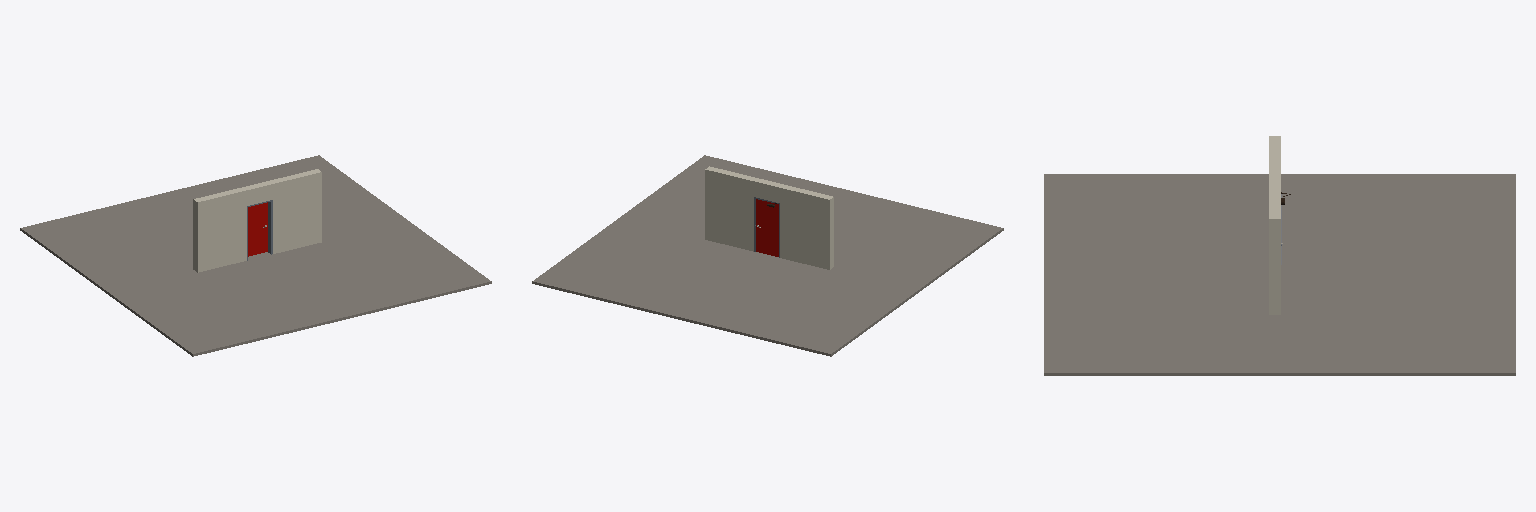
The robot description file, URDF, robot "db0625_swing_single_full":
<?xml version="1.0" ?>
<robot xmlns:doorbench="https://github.com/adamraudonis/DoorBench/schema/urdf-ext" name="db0625_swing_single_full">
  <link name="world_env">
    <visual name="floor_vis">
      <origin xyz="0 0 -0.05" rpy="0 0 0"/>
      <geometry>
        <box size="12 12 0.1"/>
      </geometry>
      <material name="mat_floor"/>
    </visual>
    <collision name="floor_col">
      <origin xyz="0 0 -0.05" rpy="0 0 0"/>
      <geometry>
        <box size="12 12 0.1"/>
      </geometry>
    </collision>
    <visual name="wall_left_vis">
      <origin xyz="-1.50525 -0.121 1.35" rpy="0 0 0"/>
      <geometry>
        <box size="1.9895 0.3 2.7"/>
      </geometry>
      <material name="mat_wall"/>
    </visual>
    <collision name="wall_left_col">
      <origin xyz="-1.50525 -0.121 1.35" rpy="0 0 0"/>
      <geometry>
        <box size="1.9895 0.3 2.7"/>
      </geometry>
    </collision>
    <visual name="wall_right_vis">
      <origin xyz="1.52025 -0.121 1.35" rpy="0 0 0"/>
      <geometry>
        <box size="1.9595 0.3 2.7"/>
      </geometry>
      <material name="mat_wall"/>
    </visual>
    <collision name="wall_right_col">
      <origin xyz="1.52025 -0.121 1.35" rpy="0 0 0"/>
      <geometry>
        <box size="1.9595 0.3 2.7"/>
      </geometry>
    </collision>
    <visual name="wall_header_vis">
      <origin xyz="0.015 -0.121 2.4125" rpy="0 0 0"/>
      <geometry>
        <box size="1.051 0.3 0.575"/>
      </geometry>
      <material name="mat_wall"/>
    </visual>
    <collision name="wall_header_col">
      <origin xyz="0.015 -0.121 2.4125" rpy="0 0 0"/>
      <geometry>
        <box size="1.051 0.3 0.575"/>
      </geometry>
    </collision>
    <visual name="jamb_hinge_vis">
      <origin xyz="-0.4855 -0.121 1.0225" rpy="0 0 0"/>
      <geometry>
        <box size="0.05 0.3 2.045"/>
      </geometry>
      <material name="mat_frame"/>
    </visual>
    <collision name="jamb_hinge_col">
      <origin xyz="-0.4855 -0.121 1.0225" rpy="0 0 0"/>
      <geometry>
        <box size="0.05 0.3 2.045"/>
      </geometry>
    </collision>
    <visual name="strike_1016_wall_n_vis">
      <origin xyz="0.5005 -0.14025 1.016" rpy="0 0 0"/>
      <geometry>
        <box size="0.08 0.2615 0.0366"/>
      </geometry>
      <material name="mat_frame"/>
    </visual>
    <collision name="strike_1016_wall_n_col">
      <origin xyz="0.5005 -0.14025 1.016" rpy="0 0 0"/>
      <geometry>
        <box size="0.08 0.2615 0.0366"/>
      </geometry>
    </collision>
    <visual name="strike_1016_wall_p_vis">
      <origin xyz="0.5005 0.0175 1.016" rpy="0 0 0"/>
      <geometry>
        <box size="0.08 0.016 0.0366"/>
      </geometry>
      <material name="mat_frame"/>
    </visual>
    <collision name="strike_1016_wall_p_col">
      <origin xyz="0.5005 0.0175 1.016" rpy="0 0 0"/>
      <geometry>
        <box size="0.08 0.016 0.0366"/>
      </geometry>
    </collision>
    <visual name="strike_1016_ramp_vis">
      <origin xyz="0.503782 0.018312 1.016" rpy="0 0 -0.588003"/>
      <geometry>
        <box size="0.08 0.036056 0.0366"/>
      </geometry>
      <material name="mat_frame"/>
    </visual>
    <collision name="strike_1016_ramp_col">
      <origin xyz="0.503782 0.018312 1.016" rpy="0 0 -0.588003"/>
      <geometry>
        <box size="0.08 0.036056 0.0366"/>
      </geometry>
    </collision>
    <visual name="strike_1016_back_vis">
      <origin xyz="0.512 0 1.016" rpy="0 0 0"/>
      <geometry>
        <box size="0.057 0.019 0.0366"/>
      </geometry>
      <material name="mat_frame"/>
    </visual>
    <collision name="strike_1016_back_col">
      <origin xyz="0.512 0 1.016" rpy="0 0 0"/>
      <geometry>
        <box size="0.057 0.019 0.0366"/>
      </geometry>
    </collision>
    <visual name="jamb_strike_0_vis">
      <origin xyz="0.5005 -0.121 0.49885" rpy="0 0 0"/>
      <geometry>
        <box size="0.08 0.3 0.9977"/>
      </geometry>
      <material name="mat_frame"/>
    </visual>
    <collision name="jamb_strike_0_col">
      <origin xyz="0.5005 -0.121 0.49885" rpy="0 0 0"/>
      <geometry>
        <box size="0.08 0.3 0.9977"/>
      </geometry>
    </collision>
    <visual name="jamb_strike_1_vis">
      <origin xyz="0.5005 -0.121 1.53965" rpy="0 0 0"/>
      <geometry>
        <box size="0.08 0.3 1.0107"/>
      </geometry>
      <material name="mat_frame"/>
    </visual>
    <collision name="jamb_strike_1_col">
      <origin xyz="0.5005 -0.121 1.53965" rpy="0 0 0"/>
      <geometry>
        <box size="0.08 0.3 1.0107"/>
      </geometry>
    </collision>
    <visual name="jamb_head_vis">
      <origin xyz="0.015 -0.121 2.07" rpy="0 0 0"/>
      <geometry>
        <box size="1.051 0.3 0.05"/>
      </geometry>
      <material name="mat_frame"/>
    </visual>
    <collision name="jamb_head_col">
      <origin xyz="0.015 -0.121 2.07" rpy="0 0 0"/>
      <geometry>
        <box size="1.051 0.3 0.05"/>
      </geometry>
    </collision>
    <visual name="head_stud_vis">
      <origin xyz="0.015 -0.121 2.11" rpy="0 0 0"/>
      <geometry>
        <box size="1.051 0.3 0.03"/>
      </geometry>
      <material name="mat_wall"/>
    </visual>
    <collision name="head_stud_col">
      <origin xyz="0.015 -0.121 2.11" rpy="0 0 0"/>
      <geometry>
        <box size="1.051 0.3 0.03"/>
      </geometry>
    </collision>
    <visual name="stop_hinge_vis">
      <origin xyz="-0.455 -0.0385 1.0225" rpy="0 0 0"/>
      <geometry>
        <box size="0.011 0.032 2.045"/>
      </geometry>
      <material name="mat_frame"/>
    </visual>
    <collision name="stop_hinge_col">
      <origin xyz="-0.455 -0.0385 1.0225" rpy="0 0 0"/>
      <geometry>
        <box size="0.011 0.032 2.045"/>
      </geometry>
    </collision>
    <visual name="stop_strike_vis">
      <origin xyz="0.455 -0.0385 1.0225" rpy="0 0 0"/>
      <geometry>
        <box size="0.011 0.032 2.045"/>
      </geometry>
      <material name="mat_frame"/>
    </visual>
    <collision name="stop_strike_col">
      <origin xyz="0.455 -0.0385 1.0225" rpy="0 0 0"/>
      <geometry>
        <box size="0.011 0.032 2.045"/>
      </geometry>
    </collision>
    <visual name="stop_head_vis">
      <origin xyz="0 -0.0385 2.0395" rpy="0 0 0"/>
      <geometry>
        <box size="0.921 0.032 0.011"/>
      </geometry>
      <material name="mat_frame"/>
    </visual>
    <collision name="stop_head_col">
      <origin xyz="0 -0.0385 2.0395" rpy="0 0 0"/>
      <geometry>
        <box size="0.921 0.032 0.011"/>
      </geometry>
    </collision>
    <visual name="seal_hinge_vis">
      <origin xyz="-0.4575 -0.0245 1.0225" rpy="0 0 0"/>
      <geometry>
        <box size="0.008 0.005 2.045"/>
      </geometry>
      <material name="mat_seal"/>
    </visual>
    <visual name="seal_strike_vis">
      <origin xyz="0.4575 -0.0245 1.0225" rpy="0 0 0"/>
      <geometry>
        <box size="0.008 0.005 2.045"/>
      </geometry>
      <material name="mat_seal"/>
    </visual>
    <visual name="seal_head_vis">
      <origin xyz="0 -0.0245 2.033" rpy="0 0 0"/>
      <geometry>
        <box size="0.881 0.005 0.016"/>
      </geometry>
      <material name="mat_seal"/>
    </visual>
    <visual name="closer_bracket_vis">
      <origin xyz="-0.3605 0.041 2.075" rpy="0 0 0"/>
      <geometry>
        <box size="0.06 0.024 0.028"/>
      </geometry>
      <material name="mat_closer"/>
    </visual>
  </link>
  <link name="leaf">
    <inertial>
      <origin xyz="0.390182 -0.008697 1.265701" rpy="0 0 0"/>
      <mass value="45.103323"/>
      <inertia ixx="18.9874656" ixy="0.106932212" ixz="1.011693483" iyy="21.784479821" iyz="-0.5612568" izz="2.915060728"/>
    </inertial>
    <visual name="leaf_slab_vis">
      <origin xyz="0.457 -0.029 1.025" rpy="0 0 0"/>
      <geometry>
        <box size="0.914 0.044 2.032"/>
      </geometry>
      <material name="mat_leaf"/>
    </visual>
    <collision name="leaf_slab_col">
      <origin xyz="0.457 -0.029 1.025" rpy="0 0 0"/>
      <geometry>
        <box size="0.914 0.044 2.032"/>
      </geometry>
    </collision>
    <visual name="hinge_continuous_vis">
      <origin xyz="0 0 1.025" rpy="0 0 0"/>
      <geometry>
        <cylinder radius="0.0136" length="2.012"/>
      </geometry>
      <material name="mat_hinge"/>
    </visual>
    <visual name="leaf_latch_bolt_faceplate_vis">
      <origin xyz="0.9134 -0.029 1.016" rpy="0 0 0"/>
      <geometry>
        <box size="0.0012 0.028 0.0566"/>
      </geometry>
      <material name="mat_bolt"/>
    </visual>
    <visual name="closer_body_vis">
      <origin xyz="0.297 -0.007 1.952" rpy="-1.570796 0 0"/>
      <geometry>
        <mesh filename="../../hardware/closer_body_fdc4667657.obj"/>
      </geometry>
      <material name="mat_closer"/>
    </visual>
    <collision name="closer_body_col_col">
      <origin xyz="0.297 0.043 1.952" rpy="0 0 0"/>
      <geometry>
        <box size="0.29 0.1 0.07"/>
      </geometry>
    </collision>
    <visual name="closer_pinion_shaft_vis">
      <origin xyz="0.297 0.043 2.0135" rpy="0 0 0"/>
      <geometry>
        <cylinder radius="0.008" length="0.123"/>
      </geometry>
      <material name="mat_closer"/>
    </visual>
  </link>
  <link name="leaf_handle">
    <inertial>
      <origin xyz="-0.028544 0 0" rpy="0 0 0"/>
      <mass value="0.978187"/>
      <inertia ixx="0.003604455" ixy="0" ixz="0" iyy="0.001772047" iyz="0" izz="0.005198299"/>
    </inertial>
    <visual name="leaf_handle_spindle_vis">
      <origin xyz="0 0 0" rpy="-1.570796 0 0"/>
      <geometry>
        <cylinder radius="0.006" length="0.06"/>
      </geometry>
      <material name="mat_op_nickel_satin"/>
    </visual>
    <visual name="leaf_handle_lever_n_vis">
      <origin xyz="0 -0.022 0" rpy="1.570796 0 0"/>
      <geometry>
        <mesh filename="../../hardware/lever_9f02b544cf.obj"/>
      </geometry>
      <material name="mat_op_nickel_satin"/>
    </visual>
    <collision name="leaf_handle_lever_col_n_col">
      <origin xyz="-0.0625 -0.077 0" rpy="0 -1.570796 0"/>
      <geometry>
        <cylinder radius="0.0095" length="0.106"/>
      </geometry>
    </collision>
    <collision name="leaf_handle_hub_col_n_col">
      <origin xyz="0 -0.052 0" rpy="-1.570796 0 0"/>
      <geometry>
        <cylinder radius="0.012" length="0.044"/>
      </geometry>
    </collision>
    <visual name="leaf_handle_lever_p_vis">
      <origin xyz="0 0.022 0" rpy="-1.570796 0 0"/>
      <geometry>
        <mesh filename="../../hardware/lever_9f02b544cf.obj"/>
      </geometry>
      <material name="mat_op_nickel_satin"/>
    </visual>
    <collision name="leaf_handle_lever_col_p_col">
      <origin xyz="-0.0625 0.077 0" rpy="0 -1.570796 0"/>
      <geometry>
        <cylinder radius="0.0095" length="0.106"/>
      </geometry>
    </collision>
    <collision name="leaf_handle_hub_col_p_col">
      <origin xyz="0 0.052 0" rpy="-1.570796 0 0"/>
      <geometry>
        <cylinder radius="0.012" length="0.044"/>
      </geometry>
    </collision>
  </link>
  <link name="leaf_latch_bolt">
    <inertial>
      <origin xyz="-0.0055 0 0" rpy="0 0 0"/>
      <mass value="0.074627"/>
      <inertia ixx="0.000002271" ixy="0" ixz="0" iyy="0.000013255" iyz="0" izz="0.000013255"/>
    </inertial>
    <visual name="leaf_latch_bolt_capsule_vis">
      <origin xyz="-0.0055 0 0" rpy="0 1.570796 0"/>
      <geometry>
        <cylinder radius="0.008" length="0.033"/>
      </geometry>
      <material name="mat_bolt"/>
    </visual>
    <collision name="leaf_latch_bolt_capsule_col">
      <origin xyz="-0.0055 0 0" rpy="0 1.570796 0"/>
      <geometry>
        <cylinder radius="0.008" length="0.033"/>
      </geometry>
    </collision>
  </link>
  <link name="closer_arm_main">
    <inertial>
      <origin xyz="0.14 0 0" rpy="0 0 0"/>
      <mass value="0.12096"/>
      <inertia ixx="0.000003588" ixy="0" ixz="0" iyy="0.00079128" iyz="0" izz="0.000792852"/>
    </inertial>
    <visual name="closer_arm_main_geom_vis">
      <origin xyz="0.14 0 0" rpy="0 0 0"/>
      <geometry>
        <box size="0.28 0.016 0.01"/>
      </geometry>
      <material name="mat_closer"/>
    </visual>
  </link>
  <link name="closer_arm_fore">
    <inertial>
      <origin xyz="0.128088 0 0" rpy="0 0 0"/>
      <mass value="0.076531"/>
      <inertia ixx="0.000001771" ixy="0" ixz="0" iyy="0.000437665" iyz="0" izz="0.000438201"/>
    </inertial>
    <visual name="closer_arm_fore_geom_vis">
      <origin xyz="0.1125 0 0" rpy="0 0 0"/>
      <geometry>
        <box size="0.225 0.014 0.008"/>
      </geometry>
      <material name="mat_closer"/>
    </visual>
    <visual name="closer_fore_neck_vis">
      <origin xyz="0.2425 0 0" rpy="0 0 0"/>
      <geometry>
        <box size="0.035 0.006 0.006"/>
      </geometry>
      <material name="mat_closer"/>
    </visual>
    <visual name="closer_fore_pivot_vis">
      <origin xyz="0.26 0 0" rpy="0 0 0"/>
      <geometry>
        <cylinder radius="0.005" length="0.024"/>
      </geometry>
      <material name="mat_closer"/>
    </visual>
  </link>
  <joint name="leaf_hinge" type="revolute">
    <origin xyz="-0.4575 0.029 0" rpy="0 0 0"/>
    <parent link="world_env"/>
    <child link="leaf"/>
    <axis xyz="0 0 1"/>
    <limit lower="0" upper="1.745329" effort="2000" velocity="10"/>
    <dynamics damping="12.25611" friction="4.505958"/>
    <doorbench:spring stiffness="13.171663" springref="-1.46223" note="tau = -stiffness*(q - springref); not native URDF"/>
    <doorbench:closer damping_closing="63" damping_opening="12" backcheck_angle="1.22" backcheck_damping="60"/>
  </joint>
  <joint name="leaf_handle_hinge" type="revolute">
    <origin xyz="0.844 -0.029 1.016" rpy="0 0 0"/>
    <parent link="leaf"/>
    <child link="leaf_handle"/>
    <axis xyz="0 -1 0"/>
    <limit lower="0" upper="0.96" effort="2000" velocity="10"/>
    <dynamics damping="0.245624" friction="0.048"/>
    <doorbench:spring stiffness="1.2" springref="-0.458333" note="tau = -stiffness*(q - springref); not native URDF"/>
  </joint>
  <joint name="leaf_latch_bolt_slide" type="prismatic">
    <origin xyz="0.914 -0.029 1.016" rpy="0 0 0"/>
    <parent link="leaf"/>
    <child link="leaf_latch_bolt"/>
    <axis xyz="-1 0 0"/>
    <limit lower="0" upper="0.019" effort="5000" velocity="10"/>
    <dynamics damping="2" friction="0.3"/>
    <doorbench:spring stiffness="600" springref="-0.01" note="tau = -stiffness*(q - springref); not native URDF"/>
    <mimic joint="leaf_handle_hinge" multiplier="0.020879" offset="0"/>
    <doorbench:coupling one_sided="true" note="MJCF uses a one-sided tendon (bolt may retract further, e.g. riding over the strike lip); mimic is bilateral"/>
  </joint>
  <joint name="closer_pinion" type="continuous">
    <origin xyz="0.297 0.043 2.075" rpy="0 0 2.198853"/>
    <parent link="leaf"/>
    <child link="closer_arm_main"/>
    <axis xyz="0 0 1"/>
    <dynamics damping="0.01" friction="0"/>
  </joint>
  <joint name="closer_elbow" type="continuous">
    <origin xyz="0.28 0 0" rpy="0 0 2.376649"/>
    <parent link="closer_arm_main"/>
    <child link="closer_arm_fore"/>
    <axis xyz="0 0 1"/>
    <dynamics damping="0.01" friction="0"/>
  </joint>
  <material name="mat_bolt">
    <color rgba="0.85 0.66 0.3 1"/>
  </material>
  <material name="mat_closer">
    <color rgba="0.22 0.17 0.13 1"/>
  </material>
  <material name="mat_floor">
    <color rgba="0.55 0.53 0.5 1"/>
  </material>
  <material name="mat_frame">
    <color rgba="0.45 0.48 0.52 1"/>
  </material>
  <material name="mat_hinge">
    <color rgba="0.65 0.66 0.68 1"/>
  </material>
  <material name="mat_leaf">
    <color rgba="0.7 0.08 0.05 1"/>
  </material>
  <material name="mat_op_nickel_satin">
    <color rgba="0.72 0.7 0.66 1"/>
  </material>
  <material name="mat_seal">
    <color rgba="0.1 0.1 0.1 1"/>
  </material>
  <material name="mat_wall">
    <color rgba="0.78 0.76 0.7 1"/>
  </material>
  <doorbench:loop_closure body1="closer_arm_fore" body2="world" anchor="0.26 0 0" label="Closer forearm pinned to frame shoe"/>
</robot>

--- Render facts (derived) ---
The picture shows the robot from 3 angles, left to right: view 1: azimuth 30°, elevation 25°; view 2: azimuth 150°, elevation 25°; view 3: azimuth 270°, elevation 25°; orthographic projection.
Model db0625_swing_single_full with 6 links and 5 joints (2 revolute, 2 continuous, 1 prismatic), rooted at world_env, posed every joint at zero.
Visible links, largest first — view 1: world_env, leaf; view 2: world_env, leaf; view 3: world_env.
Link boxes in pixels (x1,y1,x2,y2): world_env: [20, 155, 491, 356]; leaf: [248, 202, 267, 256]; world_env: [532, 155, 1003, 356]; leaf: [756, 199, 778, 256]; world_env: [1044, 136, 1515, 375].
Size in the robot's own frame: 12 by 12 by 2.8 metres.
3 mesh visuals loaded from 2 distinct referenced files (2 OBJ).
